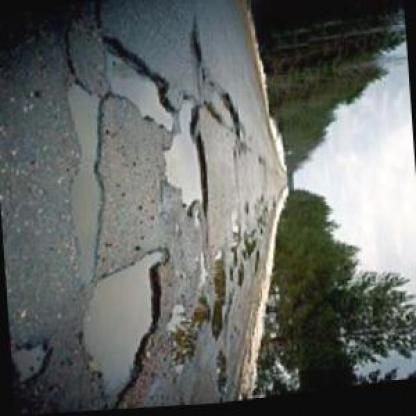pothole: (70, 247, 184, 412), (57, 78, 119, 284), (101, 28, 178, 144), (155, 99, 208, 224), (164, 297, 216, 376), (200, 81, 246, 146), (208, 250, 234, 342), (11, 340, 58, 386), (187, 28, 207, 70), (215, 351, 232, 399)
